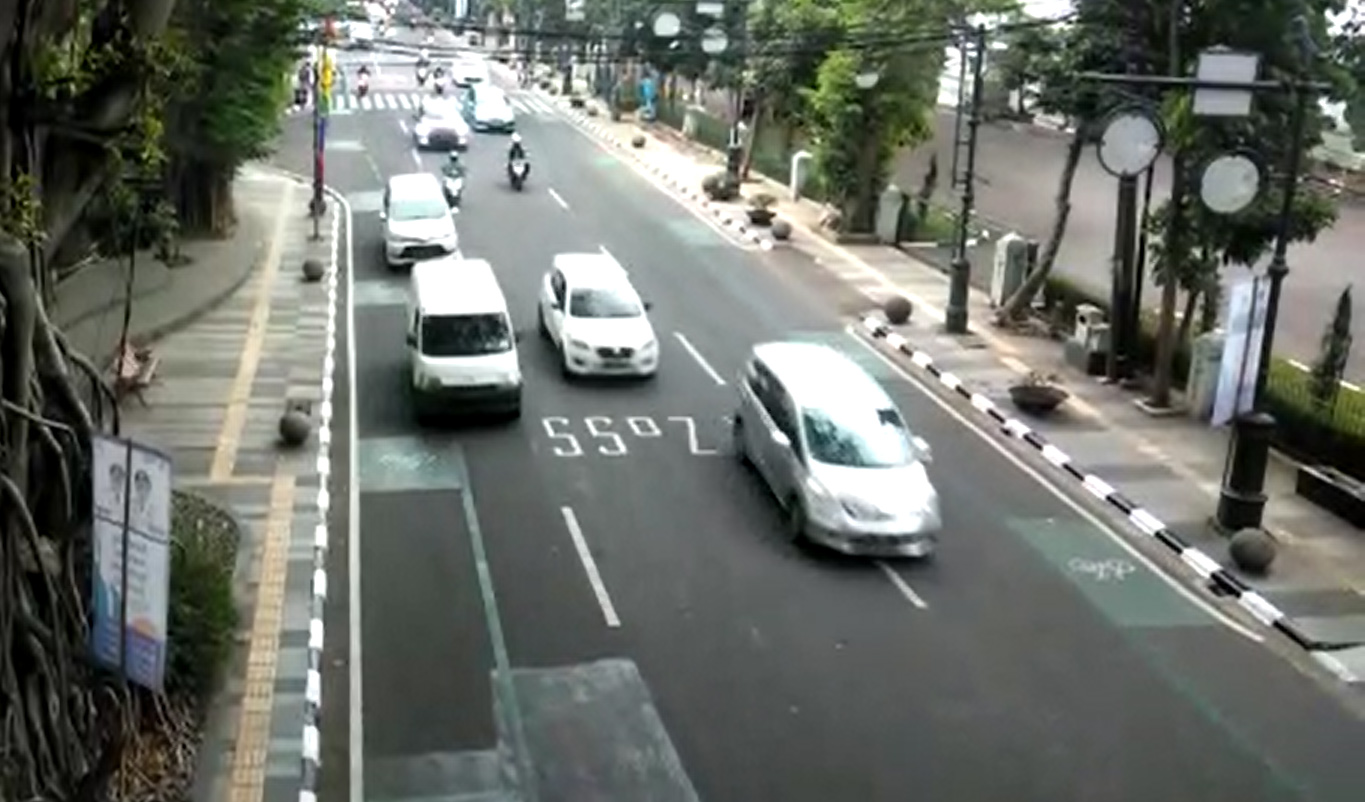mobil: (716, 325, 961, 571), (394, 248, 538, 437), (529, 238, 674, 397), (366, 168, 475, 278)
motor: (493, 124, 543, 202), (435, 145, 472, 213)
